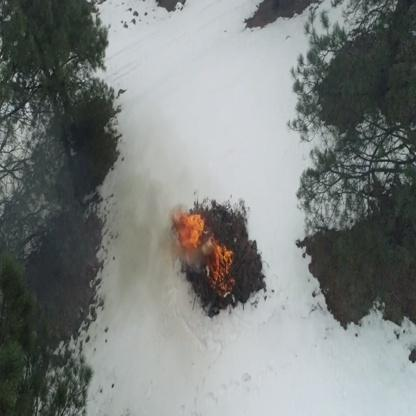Fire: (173, 216, 206, 250), (221, 246, 233, 296), (210, 235, 221, 282)
